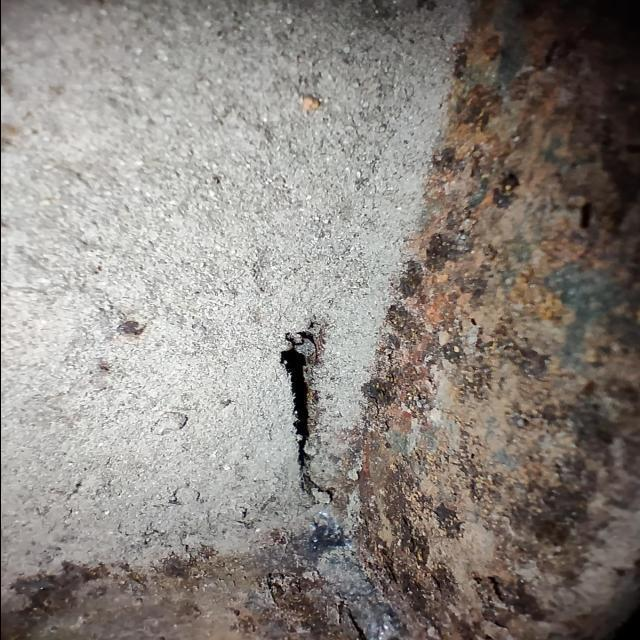defect: (271, 324, 338, 509)
